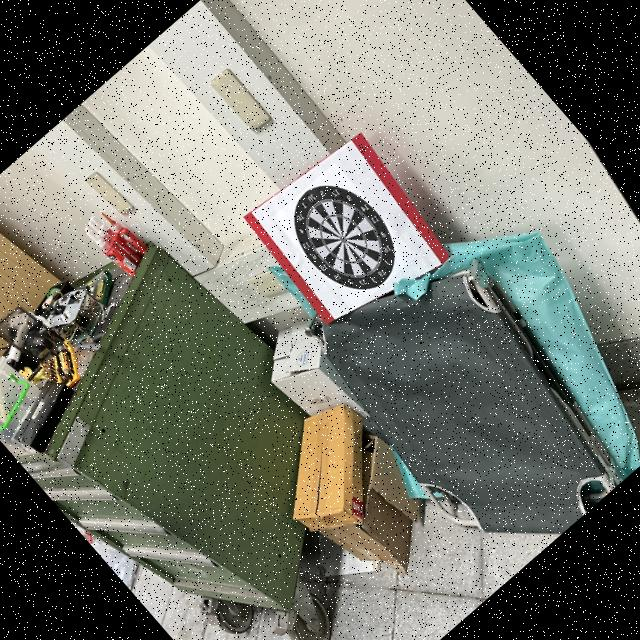archery-targets: (272, 162, 417, 311)
